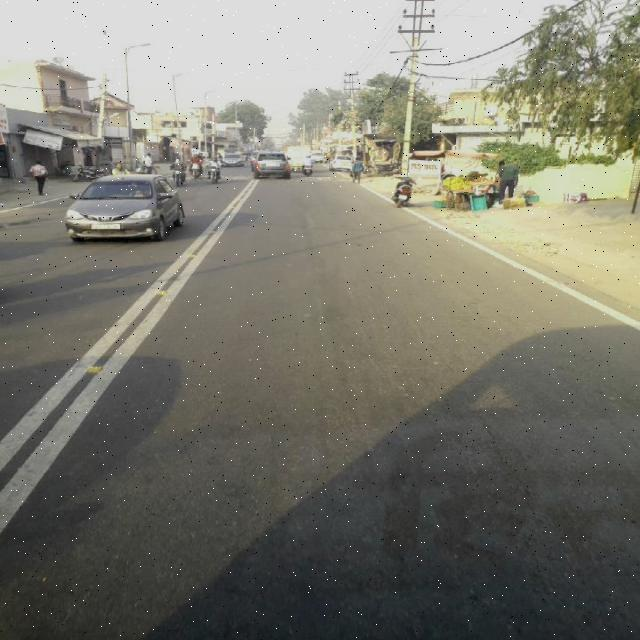D00: (403, 315, 536, 505)
